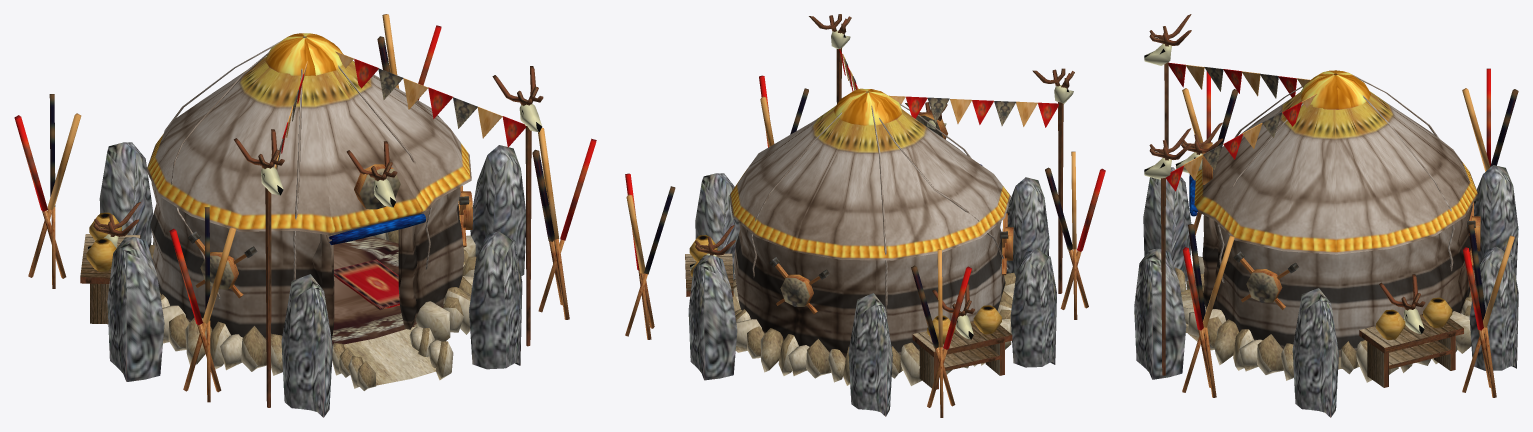
The model's file is temple.dae.
3 views of the same model, side by side, from view 1: azimuth 30°, elevation 25°; view 2: azimuth 150°, elevation 25°; view 3: azimuth 270°, elevation 25° (orthographic). The views are drawn at different scales.
Parts seen in each view (by area): view 1: temple; view 2: temple; view 3: temple.
Part boxes in pixels (bbox=[...]): temple: bbox=[14, 14, 596, 417]; temple: bbox=[625, 14, 1105, 417]; temple: bbox=[1134, 14, 1518, 417].
Bounding box in the file's own units: 16.34 × 14.58 × 10.67.
